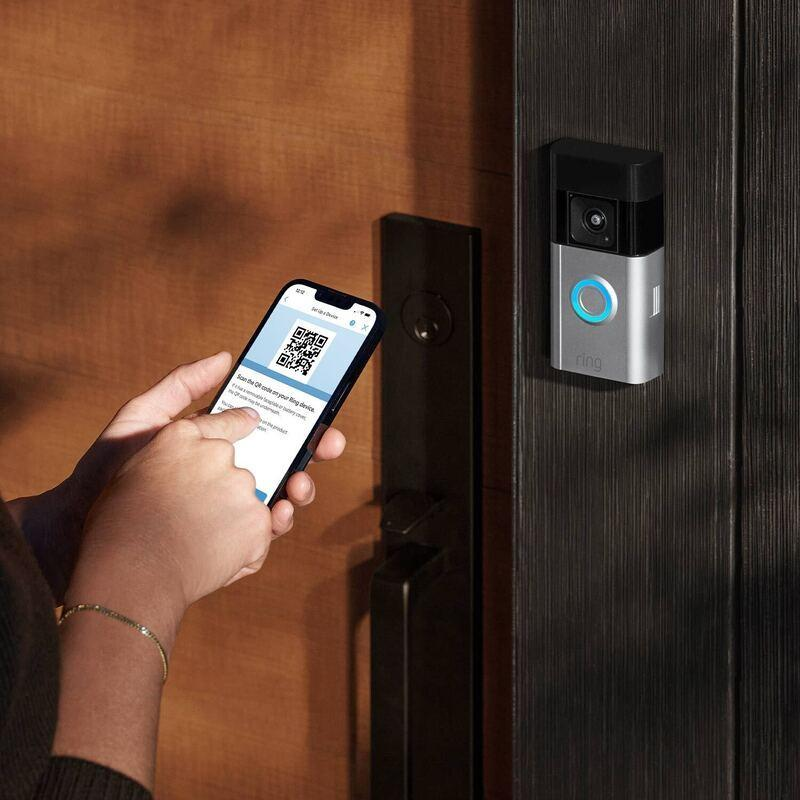doorbell: (527, 130, 691, 405)
